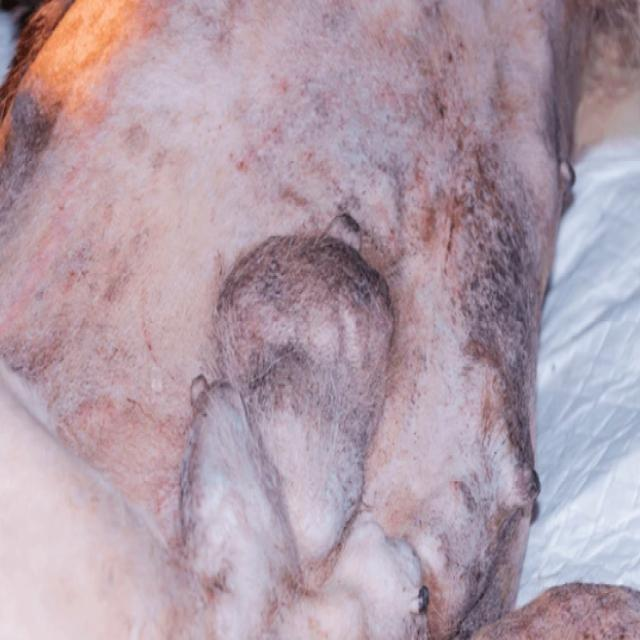mange: (269, 36, 536, 548)
